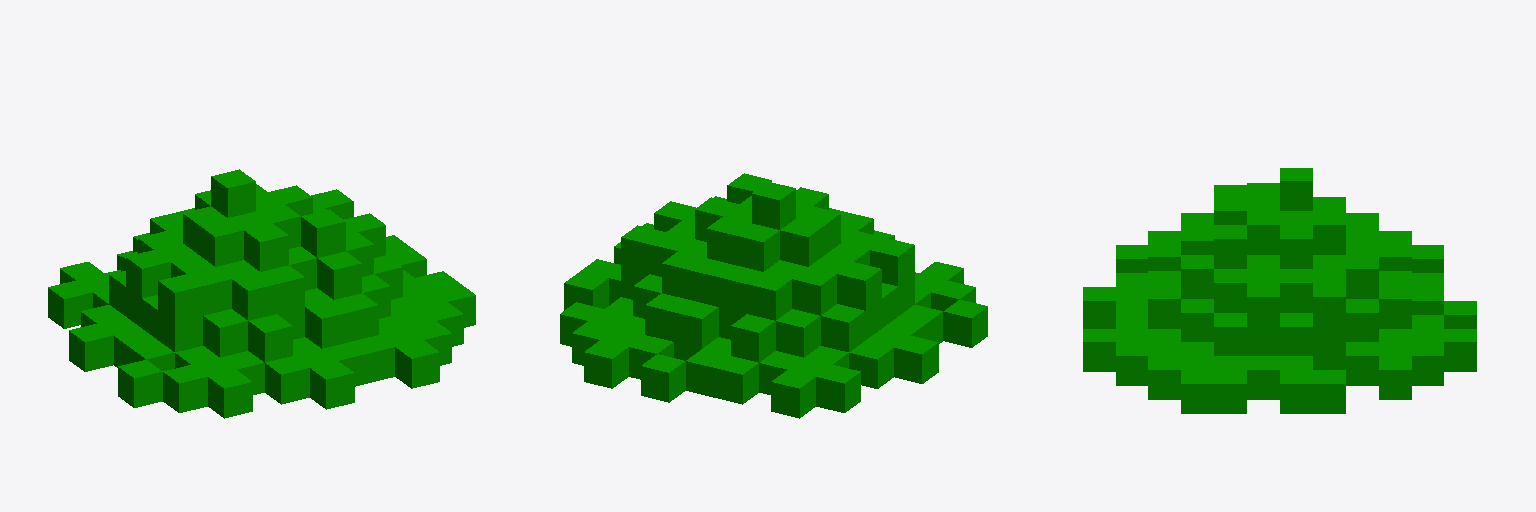
The picture shows the model from 3 angles: view 1: azimuth 30°, elevation 25°; view 2: azimuth 150°, elevation 25°; view 3: azimuth 270°, elevation 25°; orthographic projection.
Parts seen in each view (by area): view 1: kyst; view 2: kyst; view 3: kyst.
Boxes of the visible parts, box(x1,y1,x2,y2) form: kyst: box(48, 169, 475, 418); kyst: box(560, 173, 987, 418); kyst: box(1083, 168, 1476, 413).
Size of the model in its own units: 12 by 5 by 12.
1 materials, 1 textured.